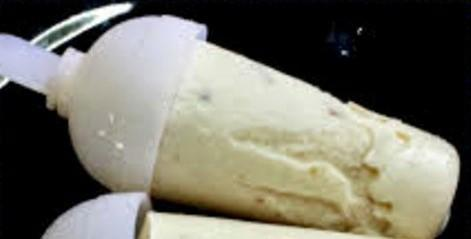Kulfi: (151, 37, 471, 239)
